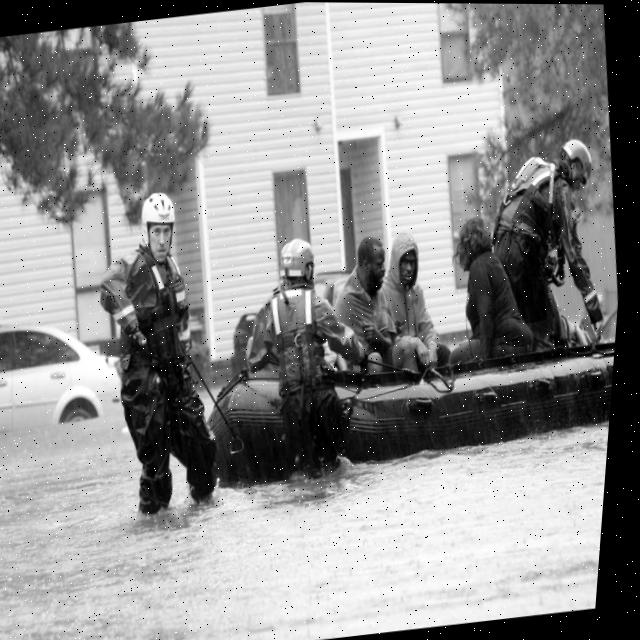civilian: (425, 210, 545, 378), (320, 231, 431, 394), (366, 226, 463, 383)
rescuer: (65, 174, 249, 527), (217, 229, 393, 498), (473, 128, 620, 355)
